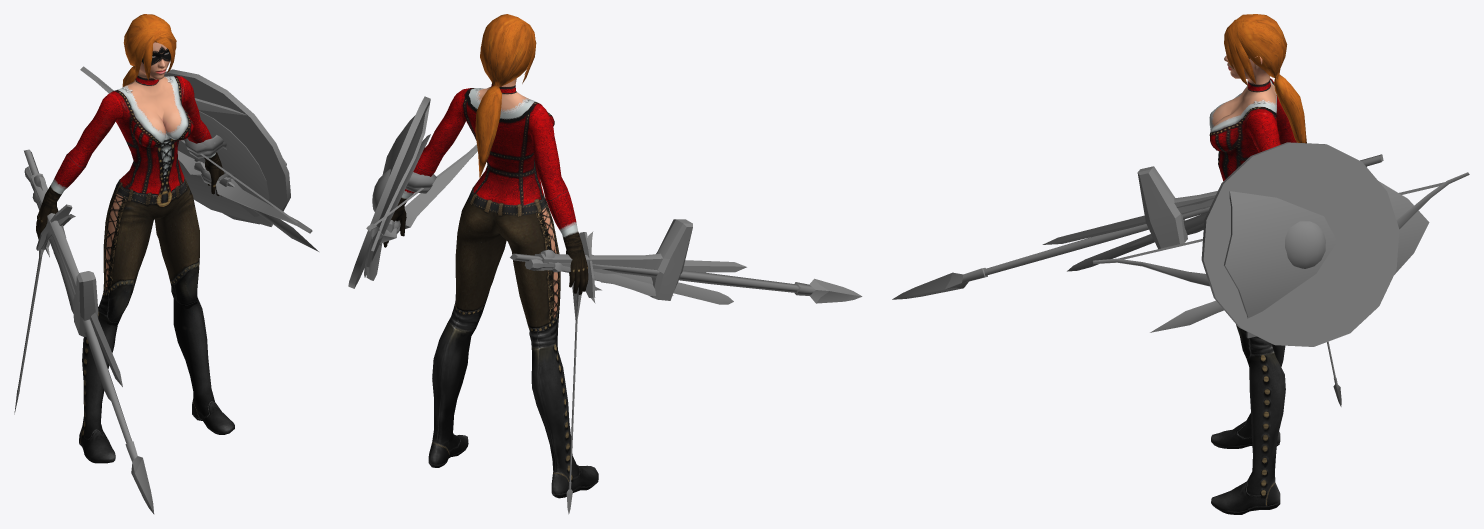
The model's file is AmazonBezerker_new.fbx.
The picture shows the model from 3 angles, left to right: view 1: azimuth 30°, elevation 25°; view 2: azimuth 150°, elevation 25°; view 3: azimuth 270°, elevation 25°; orthographic projection. The views are drawn at different scales.
Visible parts, largest first — view 1: AmazonBezerker, Shield02, Shield01, Spear, Hammer, Shield03, Bow, Longsword, Gladius02, Broadsword02, Arrow, Gladius; view 2: AmazonBezerker, Hammer, Spear, Shield03, Shield02, Bow, Longsword, Broadsword02, Shield01, Arrow, Gladius; view 3: Shield02, AmazonBezerker, Shield03, Hammer, Spear, Bow, Longsword, Gladius02, Broadsword02.
Part boxes in pixels (x1=…): AmazonBezerker: x1=36, y1=14, x2=234, y2=463; Shield02: x1=164, y1=69, x2=290, y2=224; Shield01: x1=177, y1=111, x2=269, y2=216; Spear: x1=24, y1=149, x2=154, y2=514; Hammer: x1=30, y1=173, x2=98, y2=336; Shield03: x1=182, y1=98, x2=286, y2=226; Bow: x1=80, y1=66, x2=312, y2=233; Longsword: x1=24, y1=166, x2=122, y2=386; Gladius02: x1=194, y1=161, x2=318, y2=251; Broadsword02: x1=32, y1=174, x2=110, y2=400; Arrow: x1=14, y1=250, x2=42, y2=414; Gladius: x1=46, y1=230, x2=84, y2=335; AmazonBezerker: x1=383, y1=14, x2=598, y2=498; Hammer: x1=534, y1=219, x2=692, y2=300; Spear: x1=510, y1=253, x2=862, y2=303; Shield03: x1=366, y1=104, x2=436, y2=280; Shield02: x1=348, y1=96, x2=430, y2=288; Bow: x1=366, y1=144, x2=477, y2=243; Longsword: x1=525, y1=232, x2=746, y2=297; Broadsword02: x1=540, y1=231, x2=733, y2=304; Shield01: x1=364, y1=134, x2=432, y2=277; Arrow: x1=566, y1=281, x2=581, y2=514; Gladius: x1=564, y1=271, x2=673, y2=295; Shield02: x1=1201, y1=142, x2=1399, y2=346; AmazonBezerker: x1=1209, y1=14, x2=1306, y2=514; Shield03: x1=1224, y1=181, x2=1429, y2=338; Hammer: x1=1137, y1=166, x2=1217, y2=248; Spear: x1=892, y1=154, x2=1383, y2=299; Bow: x1=1092, y1=172, x2=1469, y2=286; Longsword: x1=1042, y1=166, x2=1366, y2=244; Gladius02: x1=1150, y1=300, x2=1223, y2=332; Broadsword02: x1=1067, y1=212, x2=1207, y2=271.
Size of the model in its own units: 127 by 178 by 201.
Materials: 2 (2 with a texture image).
